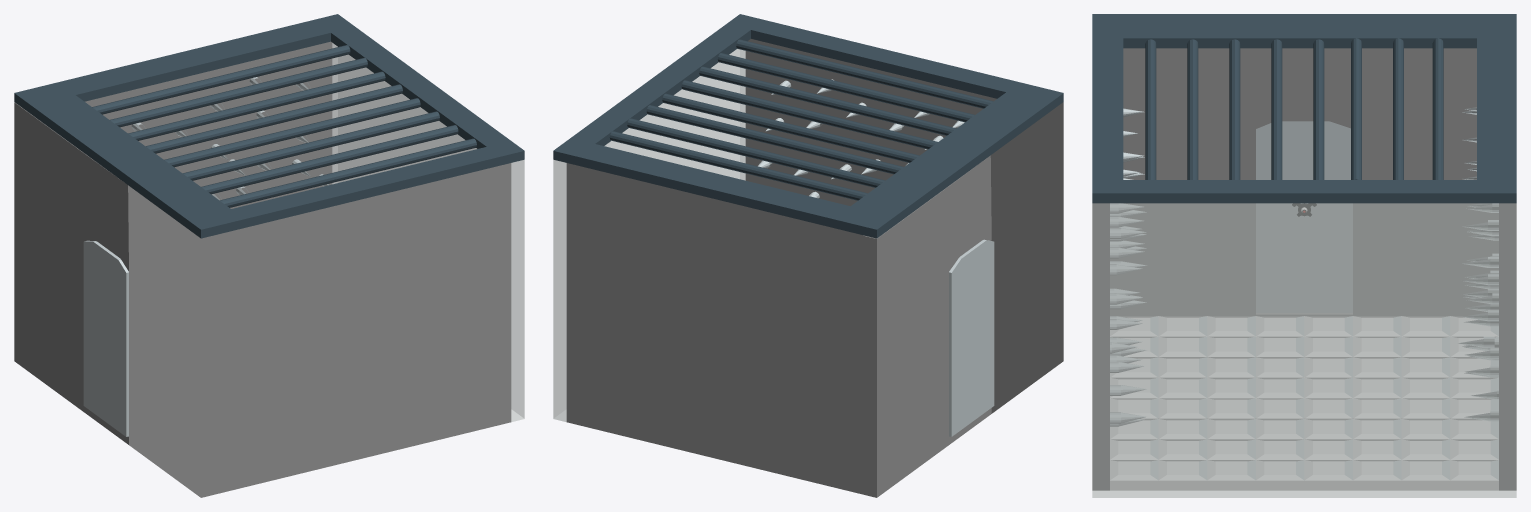
File: scene_nP3Z3BgPs8.glb
3 views of the same model, side by side, from view 1: azimuth 30°, elevation 25°; view 2: azimuth 150°, elevation 25°; view 3: azimuth 270°, elevation 25° (orthographic). The views are drawn at different scales.
Visible parts, largest first — view 1: Node; view 2: Node; view 3: Node.
Part boxes in pixels (x1=…): Node: x1=14, y1=14, x2=524, y2=497; Node: x1=553, y1=14, x2=1063, y2=497; Node: x1=1092, y1=14, x2=1516, y2=497.
Bounding box in the file's own units: 1.94 × 1.52 × 1.92.
